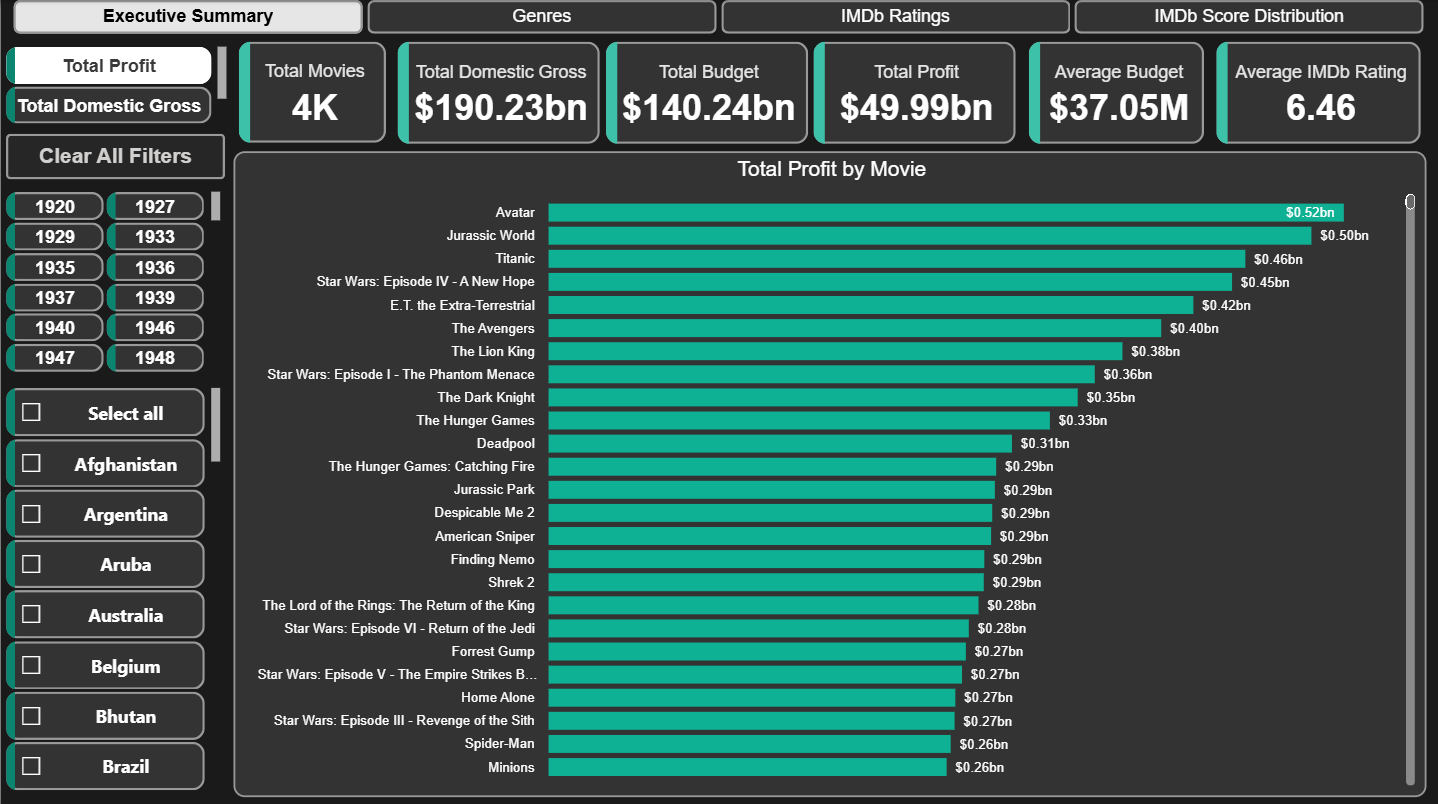

The dashboard page shown, as its layout file describes it:
{"tool":"powerbi","page":{"name":"Executive Summary","canvas":[1280,720],"ordinal":0},"visuals":[{"type":"pageNavigator","box":[11,0,1258.3,30.2],"z":0},{"type":"advancedSlicerVisual","fields":{"Values":["Parameter.Parameter"]},"box":[0,36.8,206.1,78.5],"z":500},{"type":"actionButton","box":[4.9,119,195.1,40.5],"z":1000},{"type":"advancedSlicerVisual","fields":{"Values":["cleaned_movies.title_year"]},"box":[0,165.6,200,171.8],"z":4000},{"type":"listSlicer","fields":{"Values":["cleaned_movies.country"]},"box":[0,341.1,200,374.2],"z":5000},{"type":"cardVisual","fields":{"Data":["_Measures.Total Movies"]},"box":[207.4,31.9,141.1,100.6],"z":8000},{"type":"cardVisual","fields":{"Data":["_Measures.Total Domestic Gross","_Measures.Total Budget","_Measures.Total Profit"]},"box":[348.5,31.9,562,101.8],"z":8500},{"type":"cardVisual","fields":{"Data":["_Measures.Average Budget"]},"box":[910.4,31.9,166.9,101.8],"z":9000},{"type":"cardVisual","fields":{"Data":["_Measures.Average IMDB Rating"]},"box":[1077.3,31.9,192.6,101.8],"z":9250},{"type":"clusteredBarChart","fields":{"Y":["_Measures.Total Profit"],"Category":["cleaned_movies.movie_title"]},"box":[207.4,135,1062.6,575.5],"z":9500}]}

Visuals, with their boxes in screenshot pixels (x1, y1, x2, y2), scaled from the page's 1280x720 canvas onto the 1438x804 screenshot:
pageNavigator: 12, 0, 1426, 34
advancedSlicerVisual - Parameter.Parameter: 0, 41, 232, 129
actionButton: 6, 133, 225, 178
advancedSlicerVisual - cleaned_movies.title_year: 0, 185, 225, 377
listSlicer - cleaned_movies.country: 0, 381, 225, 799
cardVisual - _Measures.Total Movies: 233, 36, 392, 148
cardVisual - _Measures.Total Domestic Gross x _Measures.Total Budget: 392, 36, 1023, 149
cardVisual - _Measures.Average Budget: 1023, 36, 1210, 149
cardVisual - _Measures.Average IMDB Rating: 1210, 36, 1427, 149
clusteredBarChart - _Measures.Total Profit x cleaned_movies.movie_title: 233, 151, 1427, 793
